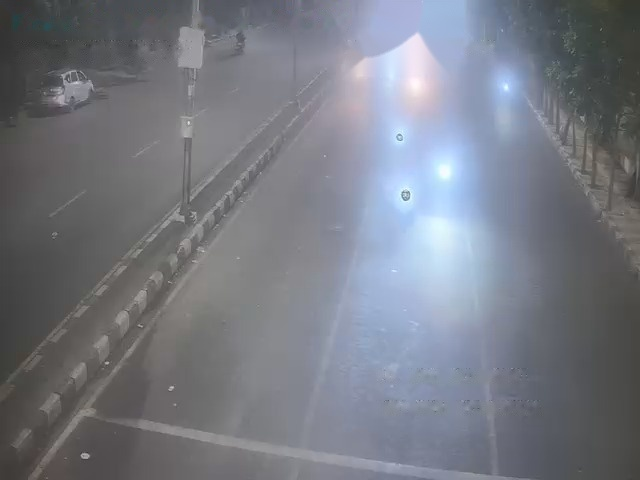Mobil: (39, 63, 90, 114)
Motor: (433, 154, 449, 186), (396, 186, 413, 216), (498, 77, 512, 105), (391, 128, 407, 152), (233, 37, 245, 56)
